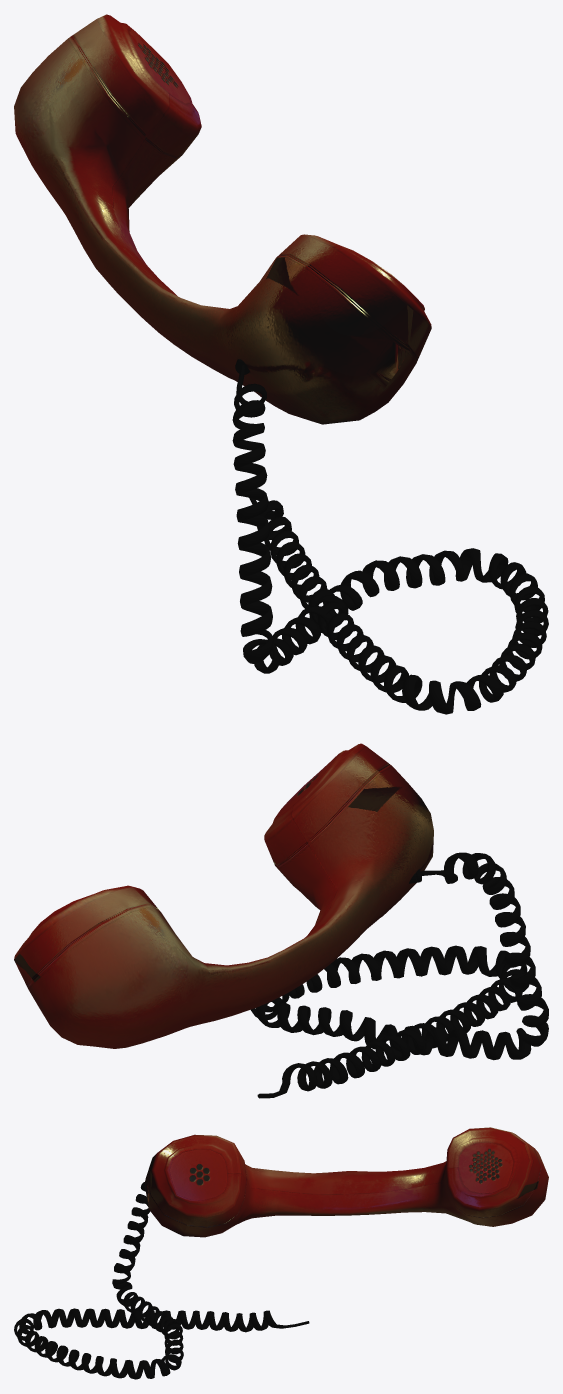
File: phone.glb
The picture shows the model from 3 angles, top to bottom: view 1: azimuth 30°, elevation 25°; view 2: azimuth 150°, elevation 25°; view 3: azimuth 270°, elevation 25°; orthographic projection. The views are drawn at different scales.
Parts seen in each view (by area): view 1: Phone_Head, Phone_cable; view 2: Phone_Head, Phone_cable; view 3: Phone_Head, Phone_cable.
Part boxes in pixels (x1,y1,x2,y2): Phone_Head: (14, 14, 431, 424); Phone_cable: (232, 359, 548, 714); Phone_Head: (14, 743, 433, 1048); Phone_cable: (251, 852, 548, 1098); Phone_Head: (144, 1127, 548, 1237); Phone_cable: (14, 1182, 309, 1379).
Size of the model in its own units: 0.1404 by 0.1679 by 0.3659.
2 materials, 2 textured.
